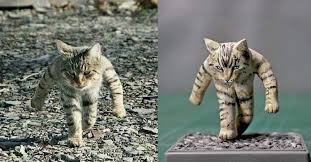cat: (195, 23, 262, 94), (47, 40, 108, 102)
